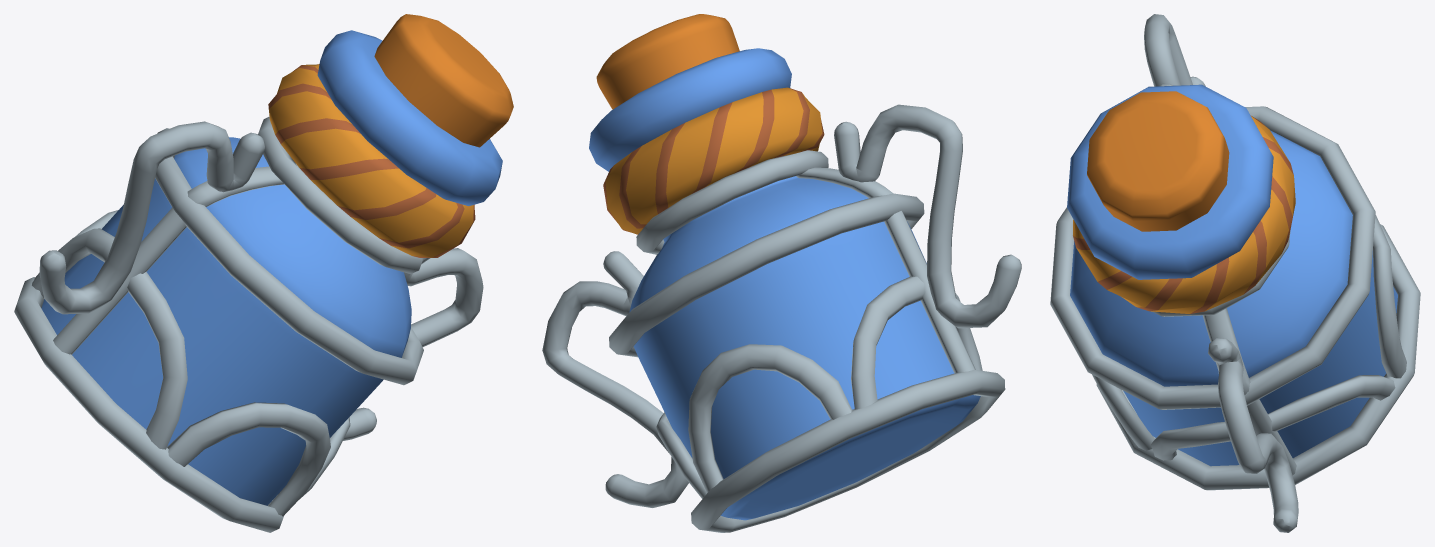
3 renders of one model, left to right at view 1: azimuth 30°, elevation 25°; view 2: azimuth 150°, elevation 25°; view 3: azimuth 270°, elevation 25°, orthographic. The views are drawn at different scales.
Parts seen in each view (by area): view 1: model_1.132; view 2: model_1.132; view 3: model_1.132.
Part boxes in pixels (x1,y1,x2,y2): model_1.132: (14, 14, 513, 532); model_1.132: (542, 14, 1021, 532); model_1.132: (1050, 14, 1420, 532).
Bounding box in the file's own units: 4.52 × 4.4 × 3.29.
